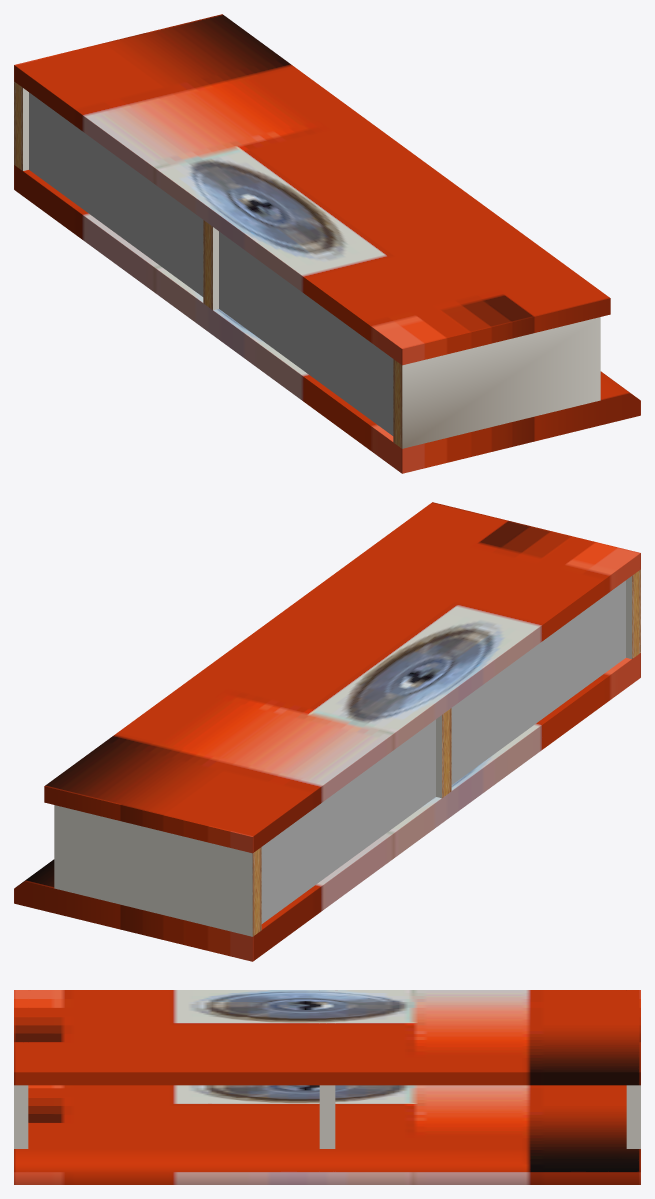
The picture shows the model from 3 angles, top to bottom: view 1: azimuth 30°, elevation 25°; view 2: azimuth 150°, elevation 25°; view 3: azimuth 270°, elevation 25°; orthographic projection. The views are drawn at different scales.
Visible parts, largest first — view 1: Joint_0_Object_0, Joint_0_Object_2, Joint_0_Object_1, Joint_0_Object_3; view 2: Joint_0_Object_0, Joint_0_Object_2, Joint_0_Object_1, Joint_0_Object_3; view 3: Joint_0_Object_0, Joint_0_Object_1.
Boxes of the visible parts, x1,y1,x2,y2 form: Joint_0_Object_0: [14, 14, 640, 473]; Joint_0_Object_2: [29, 92, 393, 435]; Joint_0_Object_1: [23, 88, 600, 448]; Joint_0_Object_3: [14, 81, 402, 448]; Joint_0_Object_0: [14, 502, 640, 961]; Joint_0_Object_2: [261, 580, 625, 923]; Joint_0_Object_1: [54, 576, 631, 936]; Joint_0_Object_3: [252, 569, 640, 936]; Joint_0_Object_0: [14, 990, 640, 1184]; Joint_0_Object_1: [14, 1085, 640, 1148].
Size of the model in its own units: 1421 by 709 by 4000.
